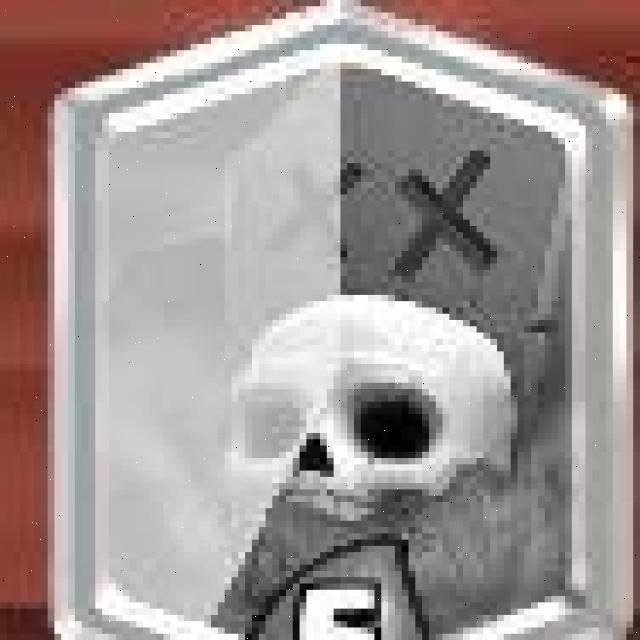Graveyard: (65, 3, 639, 640)
